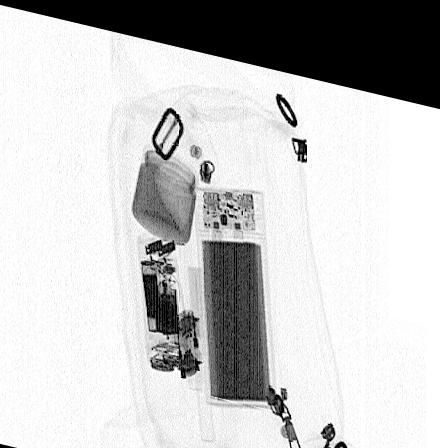Powerbank: (195, 175, 280, 395)
